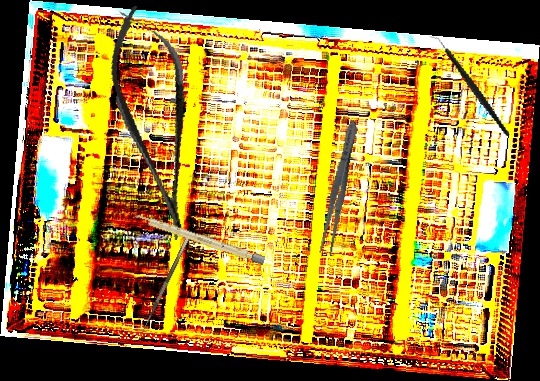Chopper: (427, 20, 510, 150)
Dressing Forceps: (316, 118, 363, 258)
Hook Surgical: (135, 237, 195, 346)
Micro Scissor: (99, 0, 212, 246)
Scalpel Handle: (132, 211, 266, 266)
